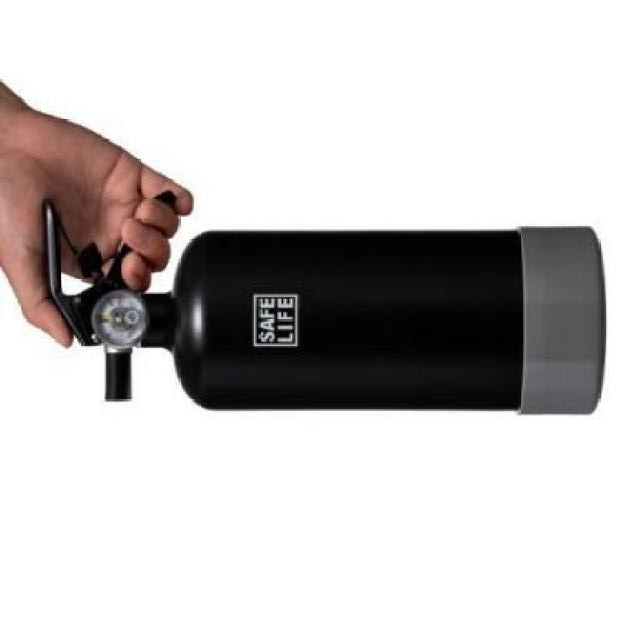fire extinguisher: (42, 189, 607, 415)
